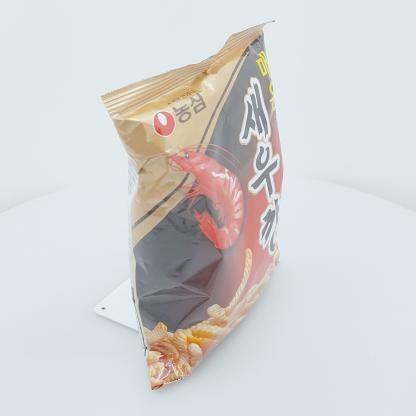Plastic Packaging: (99, 15, 303, 393)
